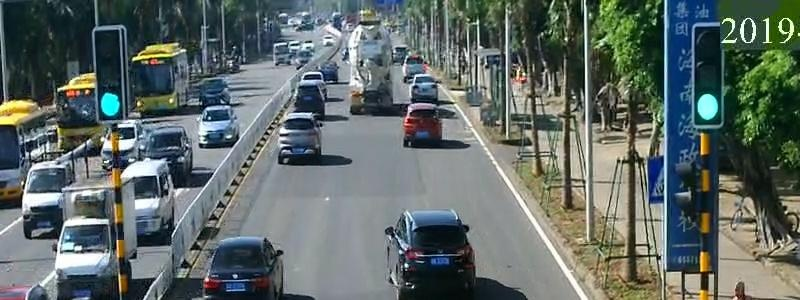green: (688, 88, 729, 128), (92, 85, 135, 123)
